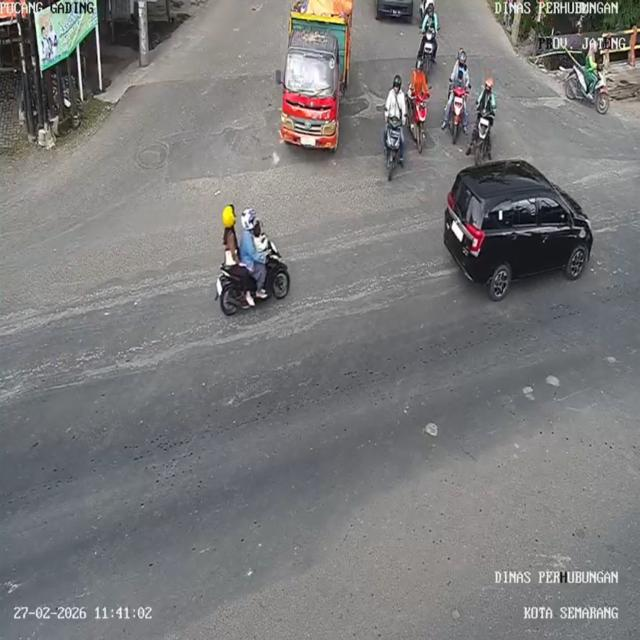motorcycle: (213, 237, 291, 317), (568, 63, 610, 112), (384, 114, 403, 180), (412, 91, 429, 156), (474, 109, 491, 166), (449, 88, 467, 140), (422, 34, 436, 76)
person: (220, 204, 256, 306), (239, 207, 268, 299), (384, 75, 408, 125), (477, 78, 497, 119), (451, 53, 471, 91), (409, 61, 429, 98), (586, 41, 598, 100), (253, 221, 271, 257), (422, 5, 438, 39), (452, 70, 466, 90), (456, 46, 465, 59), (428, 2, 435, 13)
rider_region: (213, 200, 292, 317), (564, 40, 612, 115), (378, 70, 408, 182), (445, 44, 469, 144), (473, 78, 496, 164), (409, 59, 429, 154), (416, 3, 442, 73)
